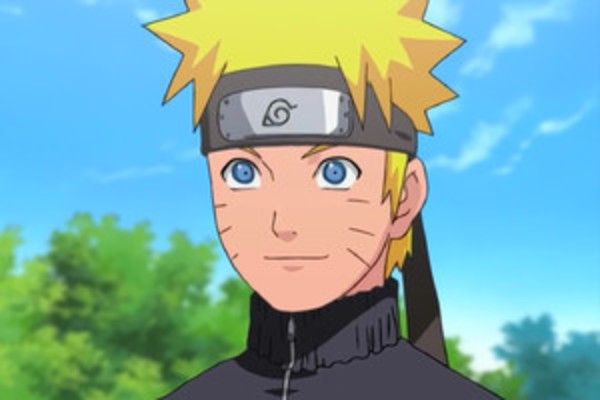naruto: (190, 63, 435, 316)
